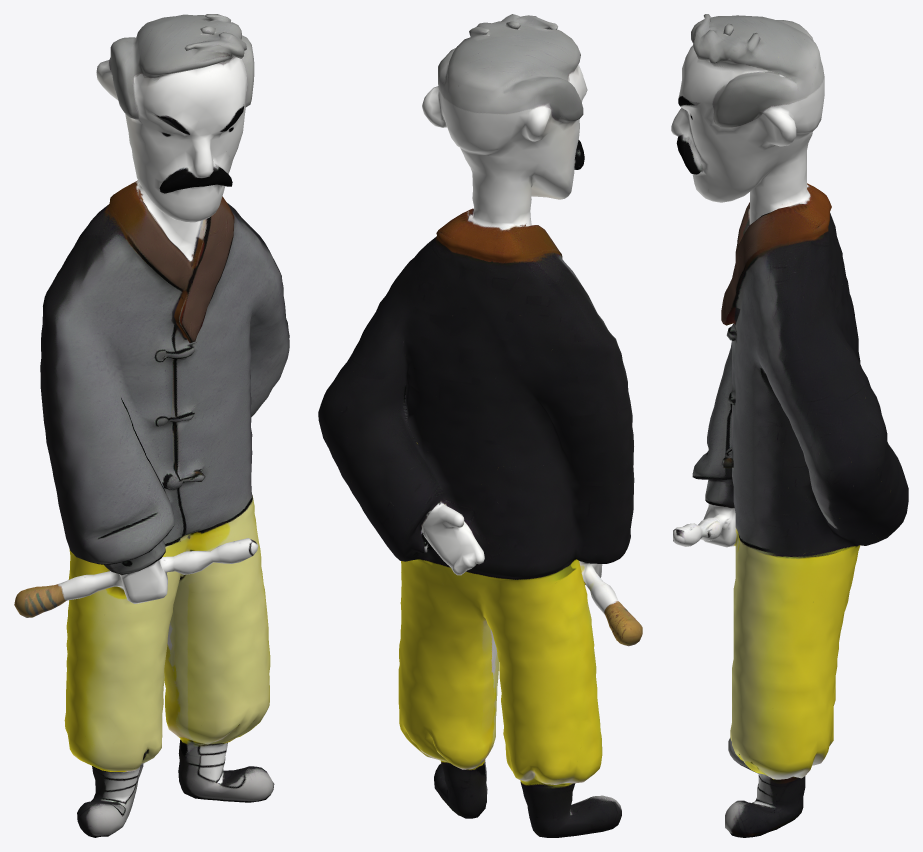
File: Meshy_AI_선생님4_0422050033_texture.fbx
3 renders of one model, left to right at view 1: azimuth 30°, elevation 25°; view 2: azimuth 150°, elevation 25°; view 3: azimuth 270°, elevation 25°, orthographic.
Visible parts, largest first — view 1: Mesh_0; view 2: Mesh_0; view 3: Mesh_0.
Part boxes in pixels (x1=…): Mesh_0: x1=14, y1=14, x2=289, y2=837; Mesh_0: x1=318, y1=14, x2=642, y2=837; Mesh_0: x1=671, y1=14, x2=908, y2=837.
Size of the model in its own units: 73.97 by 190 by 52.05.
1 material, 1 textured.
